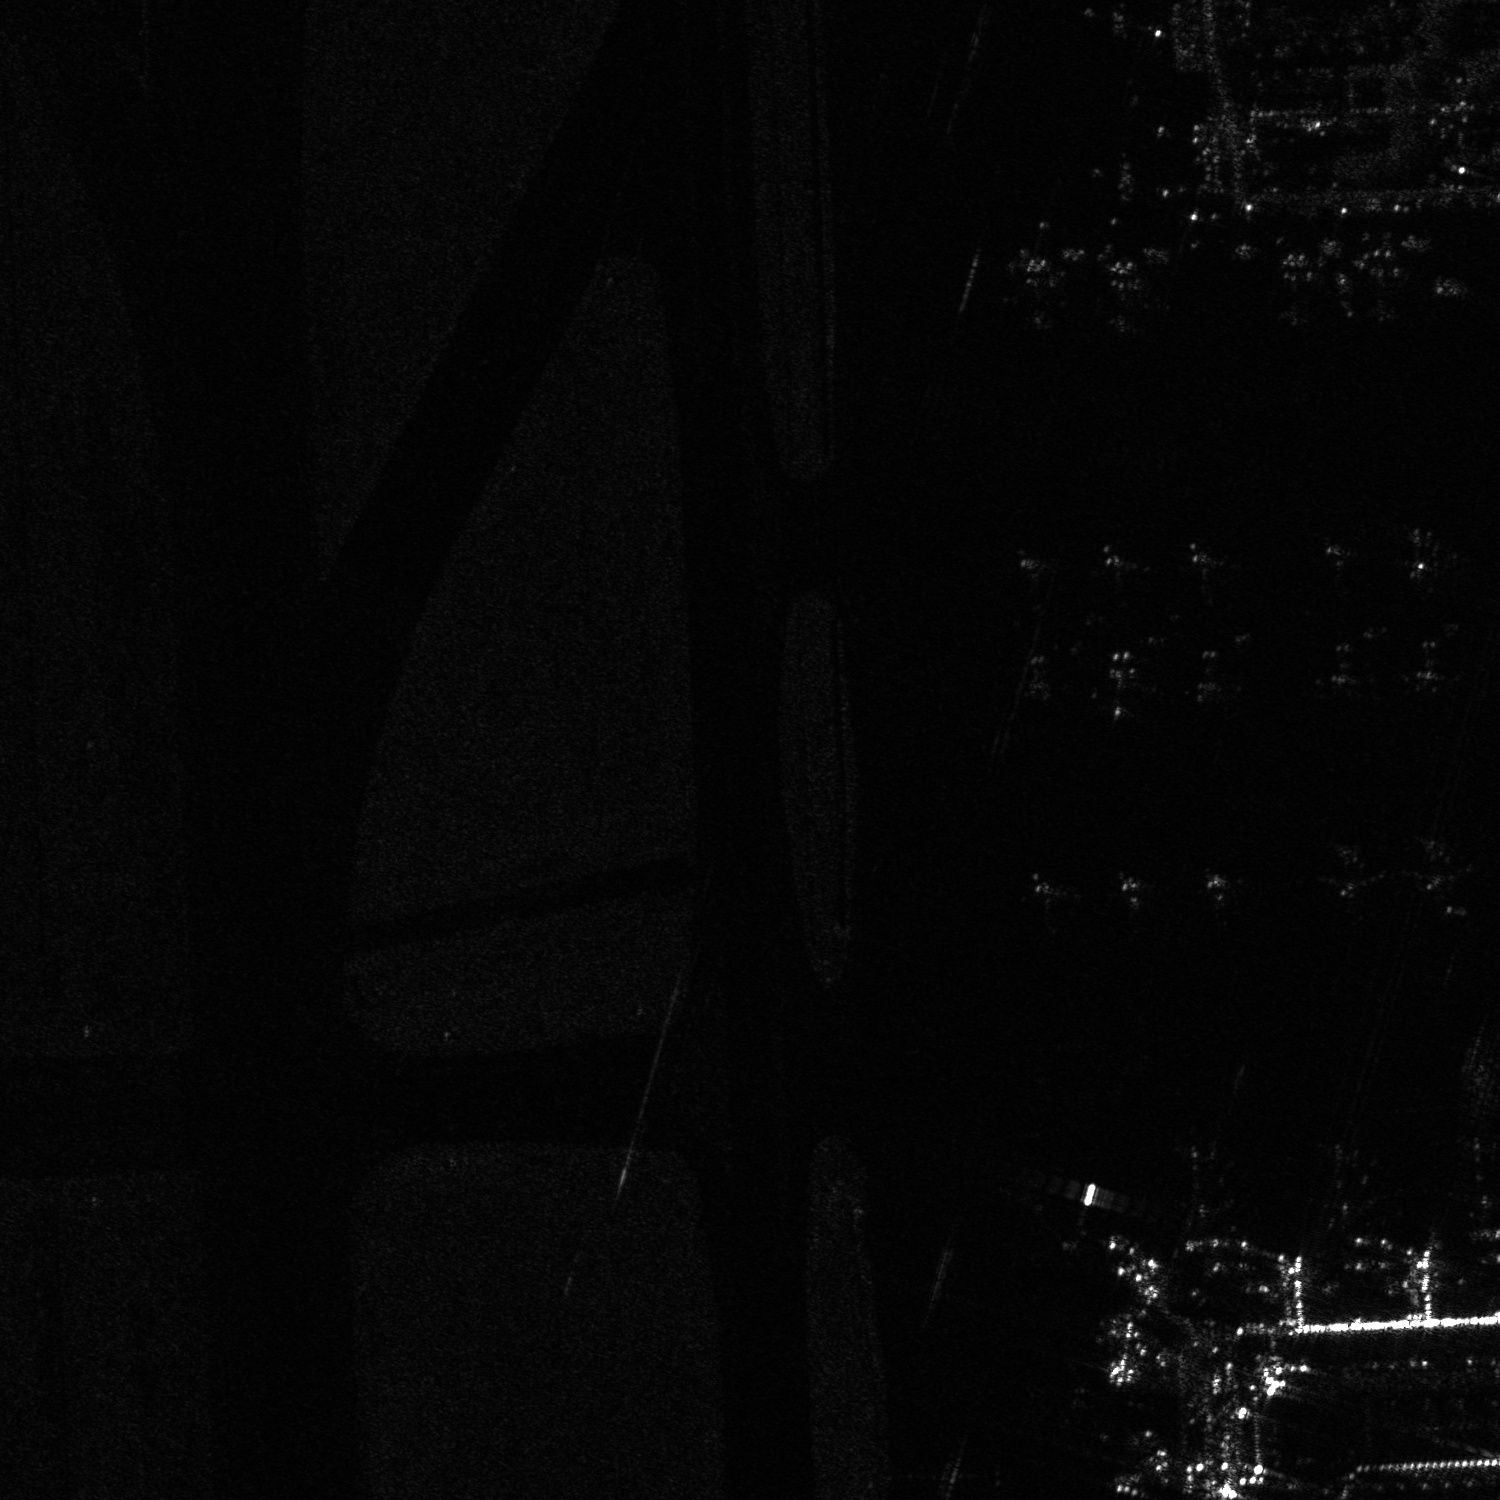A220: (1293, 1139, 1404, 1225), (1400, 837, 1479, 896), (1305, 640, 1379, 702), (1092, 870, 1172, 924)
A320/321: (995, 251, 1073, 334), (1183, 865, 1251, 924)
ARJ21: (1003, 870, 1085, 938), (1386, 637, 1475, 699), (1172, 643, 1254, 707), (1001, 652, 1071, 709)
Boeing737: (1078, 251, 1181, 341), (1260, 240, 1335, 332), (1080, 641, 1161, 727)
Boeing787: (1434, 1139, 1499, 1239)
other: (1343, 235, 1420, 328), (1159, 1143, 1242, 1229), (1380, 515, 1471, 593), (1305, 527, 1387, 598), (1310, 839, 1390, 898), (1166, 541, 1234, 607), (995, 547, 1062, 611), (1087, 545, 1154, 598)
